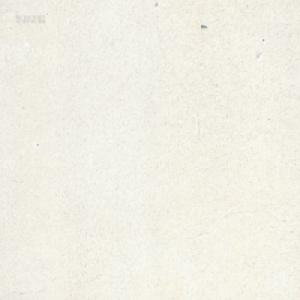Nail: (200, 23, 207, 28)
